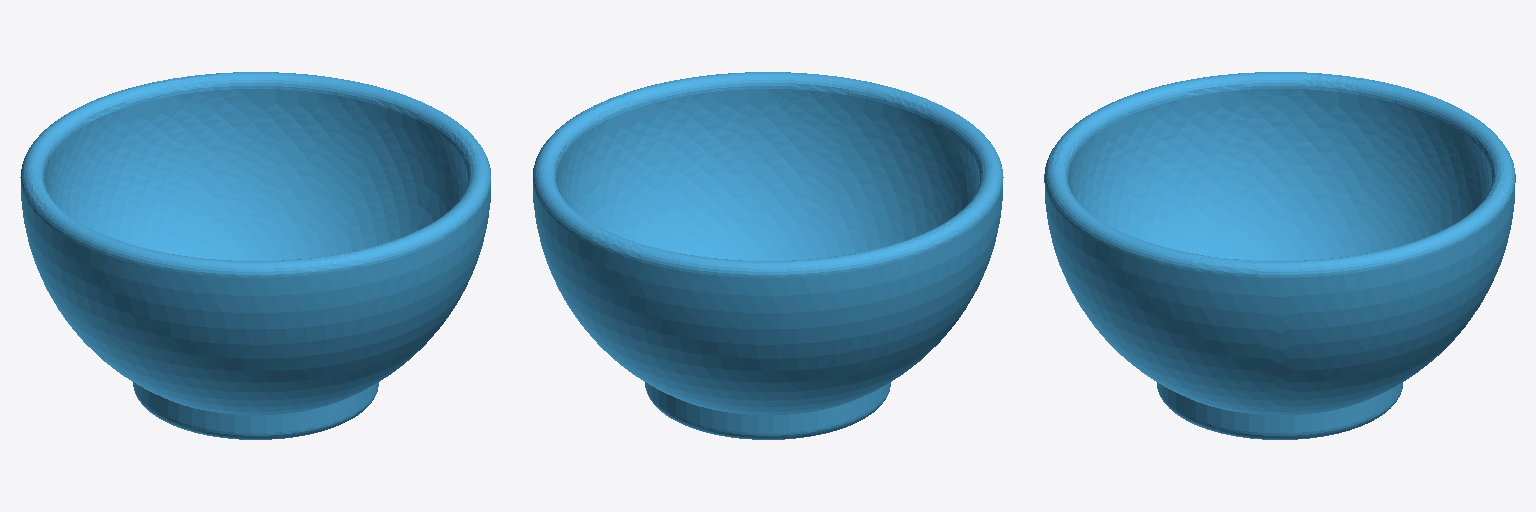
robot.urdf — box_bot:
<?xml version="1.0"?>
<robot name="box_bot">
        
  <material name="red">
      <color rgba="1.0 0.0 0.0 1"/>
  </material>

  <material name="green_light">
      <color rgba="0.0 1.0 0.0 1"/>
  </material>

  <material name="green_dark">
    <color rgba="0.0 0.5 0.0 1"/>
  </material>

  <material name="blue">
      <color rgba="0.0 0.0 1.0 1"/>
  </material>

  <link name="base_link">
  </link>


  <!-- Body -->
  <link name="chassis">
    <visual>
      <geometry>
        <mesh filename="package://load_gazebo/test_objects/bowl.stl" scale="0.1 0.1 0.1"/>
      </geometry>
    </visual>

    <collision>
      <geometry>
        <box size="0.1 0.1 0.1"/>
      </geometry>
    </collision>

    <inertial>
      <mass value="0.5"/>
      <origin rpy="0 0 0" xyz="0 0 0"/>
      <inertia ixx="0.0008333333333333335" ixy="0" ixz="0" iyy="0.0008333333333333335" iyz="0" izz="0.0008333333333333335"/>
    </inertial>
  </link>

  <joint name="base_link_joint" type="fixed">
    <origin rpy="0 0 0" xyz="0 0 0" />
    <parent link="base_link" />
    <child link="chassis" />
  </joint>

</robot>

--- What the picture shows (computed from the rendered views, not written in the file) ---
3 views of the same robot in one strip: view 1: azimuth 30°, elevation 25°; view 2: azimuth 150°, elevation 25°; view 3: azimuth 270°, elevation 25° (orthographic).
Robot: box_bot — 2 links, 1 joints (1 fixed); root link base_link; default pose: all joints at 0.
Links seen in each view (by area): view 1: chassis; view 2: chassis; view 3: chassis.
Link boxes in pixels (bbox=[...]): chassis: bbox=[20, 72, 490, 439]; chassis: bbox=[533, 72, 1003, 439]; chassis: bbox=[1044, 72, 1515, 439].
Size in the robot's own frame: 10 by 9.99 by 5.25 metres.
1 mesh visuals loaded from 1 distinct referenced files (1 binary STL).